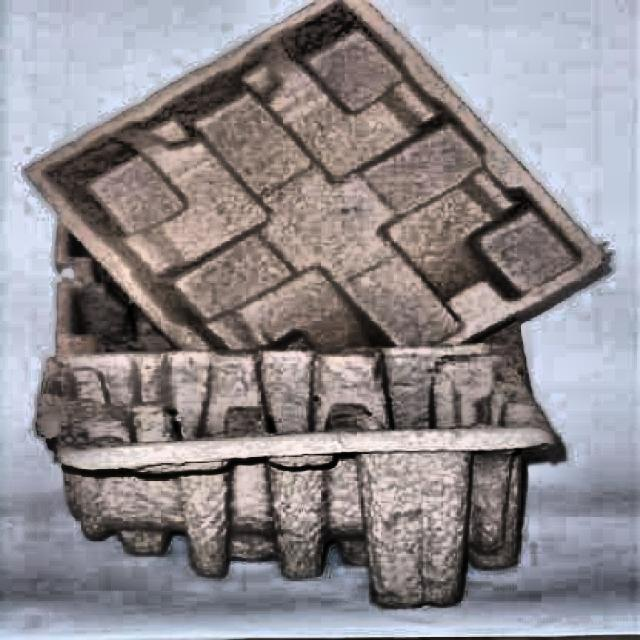Cardbox: (11, 0, 614, 620)
